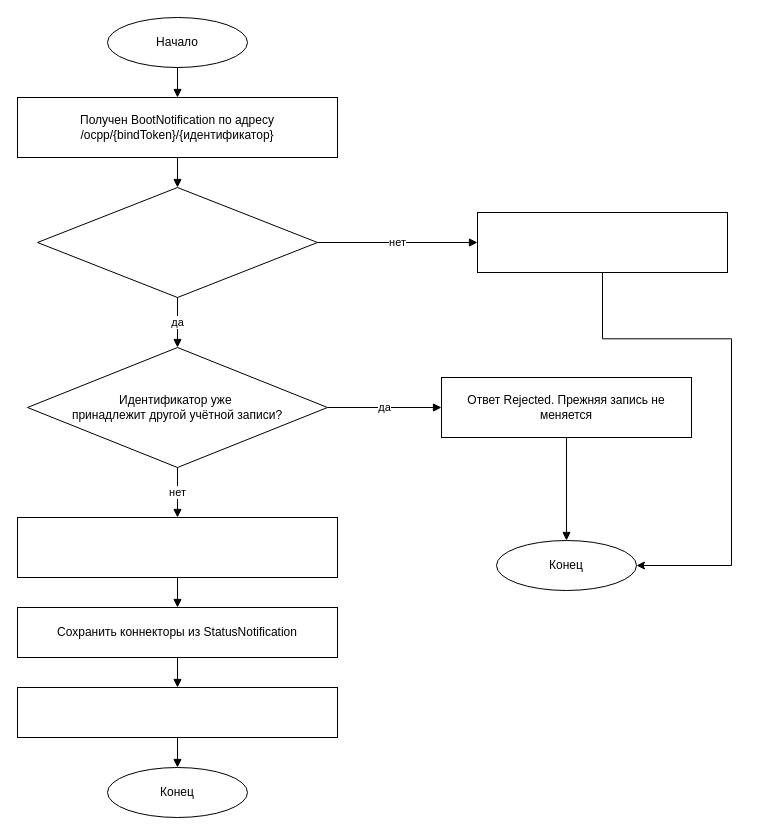
The diagram is 757 pixels wide and 835 high, and some of its shapes have lost their labels. The shapes that lost their labels are listed below. From the top down, each one's centre as x and y in pixels, then its label:
At (x=177, y=242): "Токен найден, не заблокирован, роль User?".
At (x=602, y=242): "Ответ Rejected. Станцию не создавать".
At (x=177, y=547): "Создать станцию или обновить запись этого пользователя".
At (x=177, y=712): "Станция привязана к пользователю".
